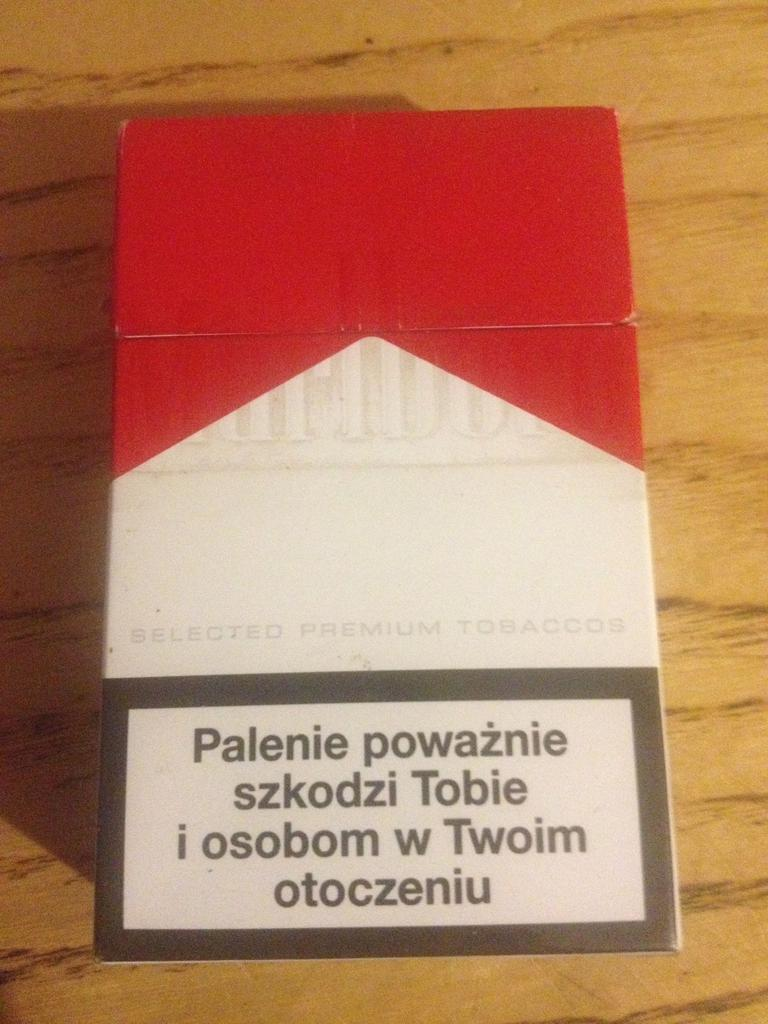marlboro_red: (102, 116, 613, 956)
